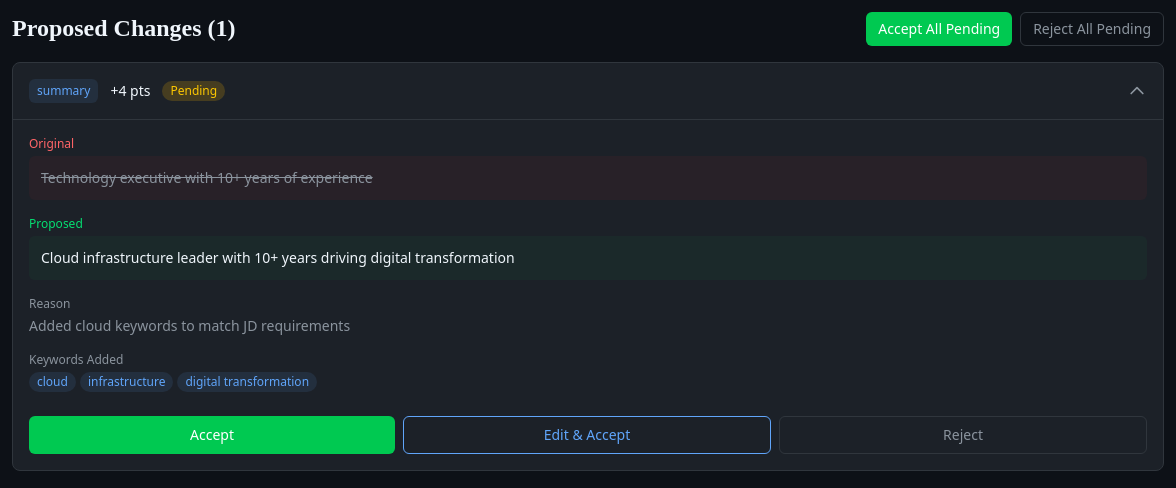
Test case: ChangePreviewPanel › Edit Flow › enters edit mode when Edit & Accept is clicked
Click the button "Edit & Accept" at (587, 435), box [403, 416, 771, 454]
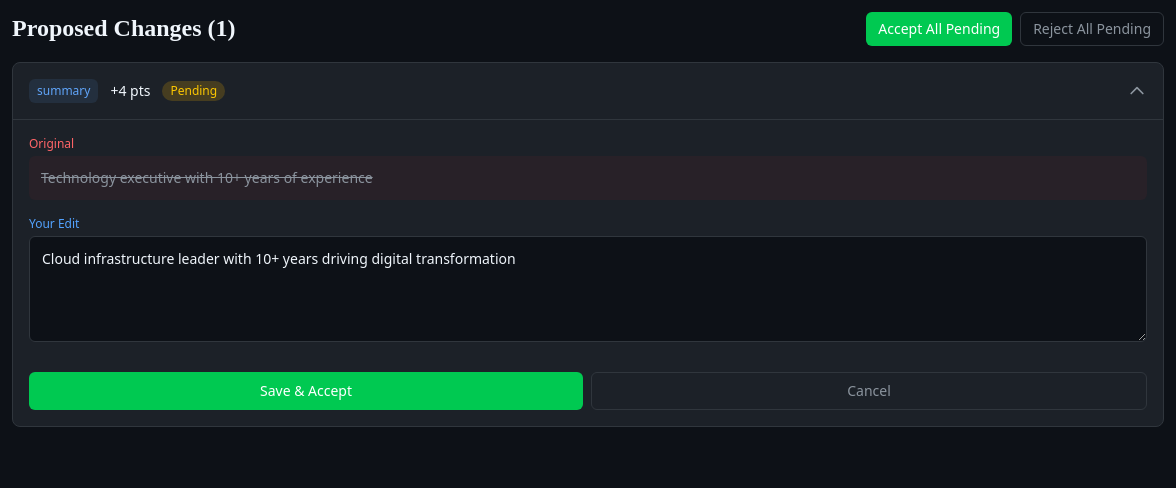
Expected: the text box holds "Cloud infrastructure leader with 10+ years driving digital transformation", [29, 236, 1147, 342]
